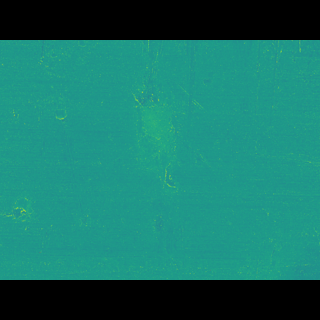Loch: (127, 89, 192, 188), (10, 185, 39, 207)
